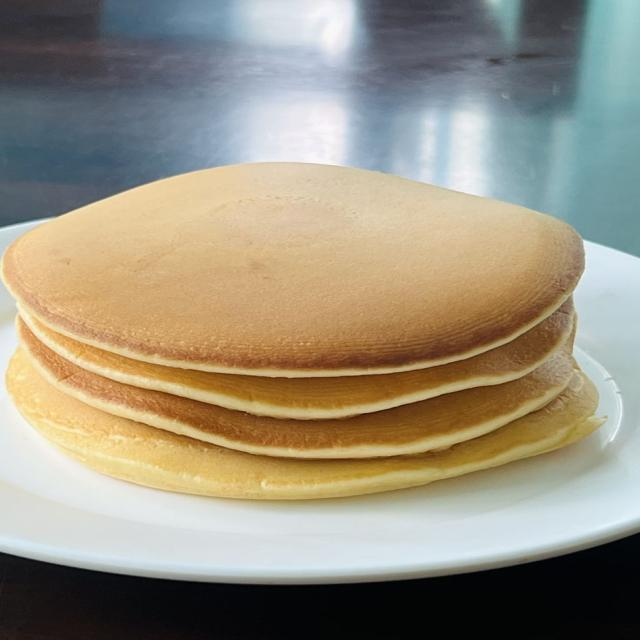pancake: (2, 163, 583, 377), (7, 351, 603, 499), (20, 325, 573, 458), (23, 299, 573, 419)
